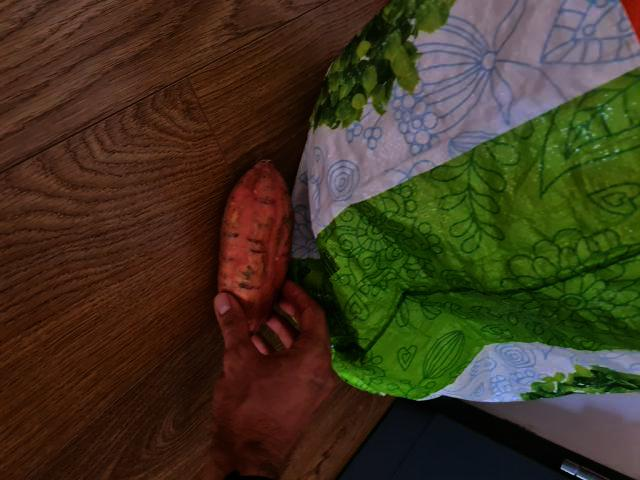sweet_potato: (210, 152, 299, 335)
